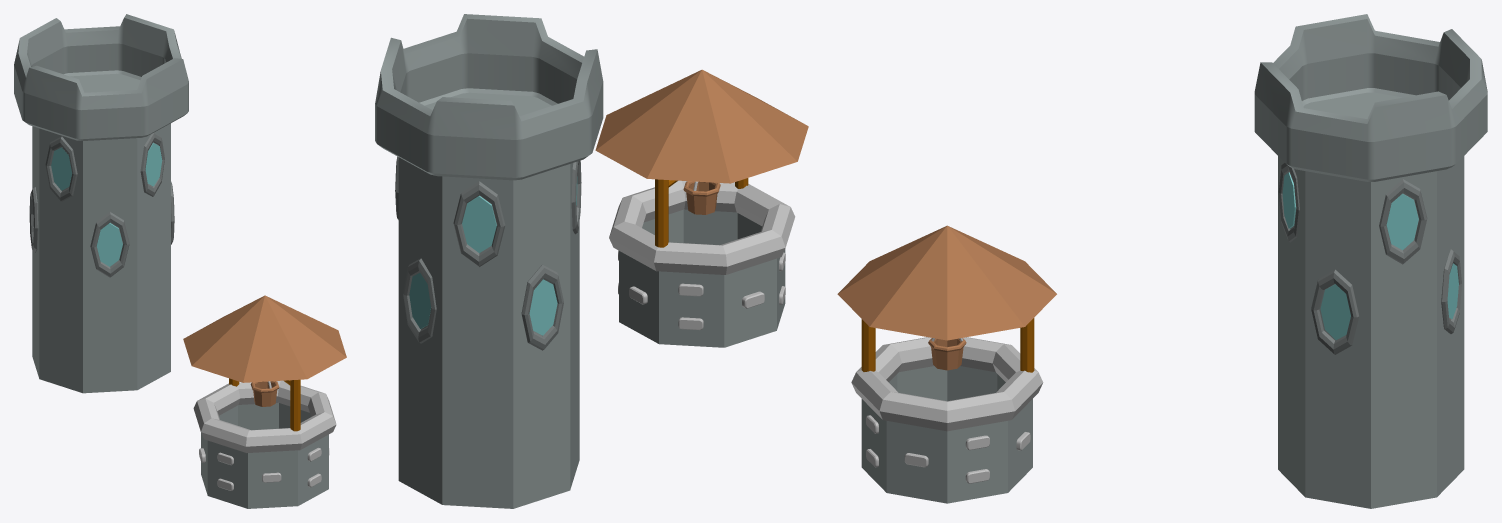
Rendered from put, toren kleur.fbx.
3 views of the same model, side by side, from view 1: azimuth 30°, elevation 25°; view 2: azimuth 150°, elevation 25°; view 3: azimuth 270°, elevation 25° (orthographic). The views are drawn at different scales.
Visible parts, largest first — view 1: toren, put, dak, ramen, stenen, pCylinder2, pCylinder7, emmer, balk1, pCylinder4; view 2: toren, put, dak, ramen, pCylinder5, stenen, pCylinder6, emmer, balk3, pCylinder1; view 3: toren, put, dak, ramen, stenen, pCylinder8, pCylinder3, emmer, balk3.
Boxes of the visible parts, <box> form: toren: <box>14,14,188,393</box>; put: <box>193,380,336,508</box>; dak: <box>183,295,346,382</box>; ramen: <box>29,133,174,277</box>; stenen: <box>199,447,329,490</box>; pCylinder2: <box>96,223,122,266</box>; pCylinder7: <box>51,147,72,190</box>; emmer: <box>250,381,279,406</box>; balk1: <box>290,379,300,431</box>; pCylinder4: <box>145,143,162,186</box>; toren: <box>375,14,603,508</box>; put: <box>609,180,795,347</box>; dak: <box>595,69,808,183</box>; ramen: <box>395,156,581,350</box>; pCylinder5: <box>462,195,496,253</box>; stenen: <box>618,250,785,330</box>; pCylinder6: <box>529,279,557,335</box>; emmer: <box>683,181,720,214</box>; balk3: <box>655,179,668,247</box>; pCylinder1: <box>409,273,431,328</box>; toren: <box>1254,14,1487,508</box>; put: <box>851,337,1043,503</box>; dak: <box>837,225,1056,340</box>; ramen: <box>1278,162,1461,354</box>; stenen: <box>866,415,1030,483</box>; pCylinder8: <box>1386,193,1418,250</box>; pCylinder3: <box>1320,284,1350,339</box>; emmer: <box>928,338,966,370</box>; balk3: <box>1020,318,1034,372</box>.
Size of the model in its own units: 1.65 by 3.19 by 4.6.
